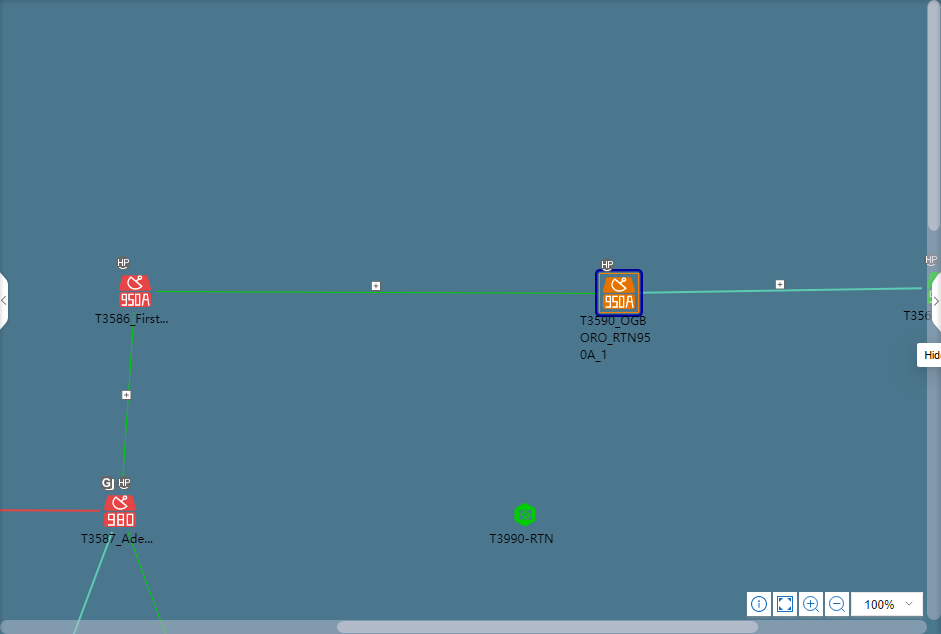Link_Blue: (73, 532, 115, 634), (643, 286, 923, 295)
Link_Green: (126, 533, 168, 634), (120, 310, 136, 478), (155, 289, 594, 295)
Link_Red: (0, 509, 101, 514)
RTN_Orange: (599, 277, 635, 311)
RTN_Red: (104, 496, 135, 528), (119, 276, 150, 307)
